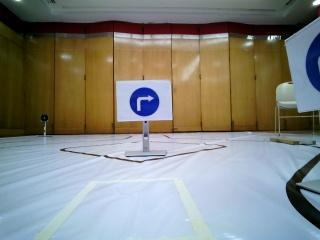right: (119, 82, 173, 119), (300, 17, 320, 111)
